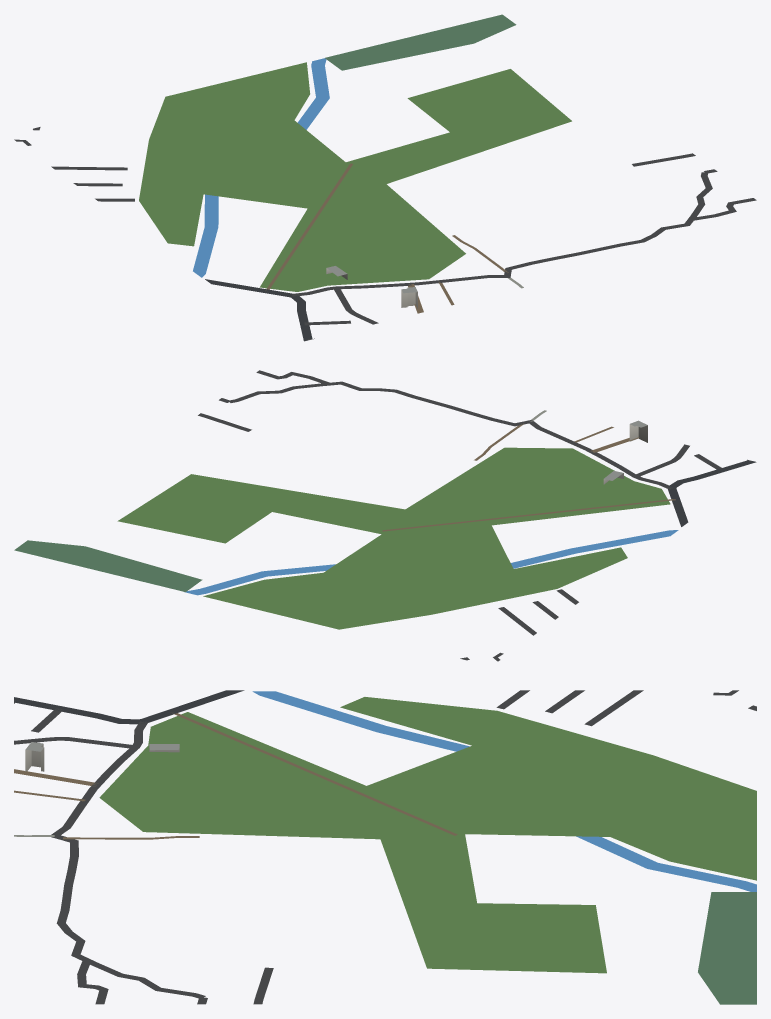
3 renders of one model, top to bottom at view 1: azimuth 30°, elevation 25°; view 2: azimuth 150°, elevation 25°; view 3: azimuth 270°, elevation 25°, orthographic. The views are drawn at different scales.
Visible parts, largest first — view 1: ground, water; view 2: ground, water, building; view 3: ground, water, building.
Part boxes in pixels (left/top/right/bottom): ground: left=14, top=14, right=756, bottom=341; water: left=193, top=58, right=329, bottom=277; ground: left=14, top=370, right=756, bottom=661; water: left=184, top=530, right=678, bottom=595; building: left=603, top=420, right=647, bottom=484; ground: left=14, top=690, right=756, bottom=1004; water: left=252, top=691, right=756, bottom=891; building: left=25, top=742, right=179, bottom=771.
Size of the model in its own units: 500 by 18 by 500.
